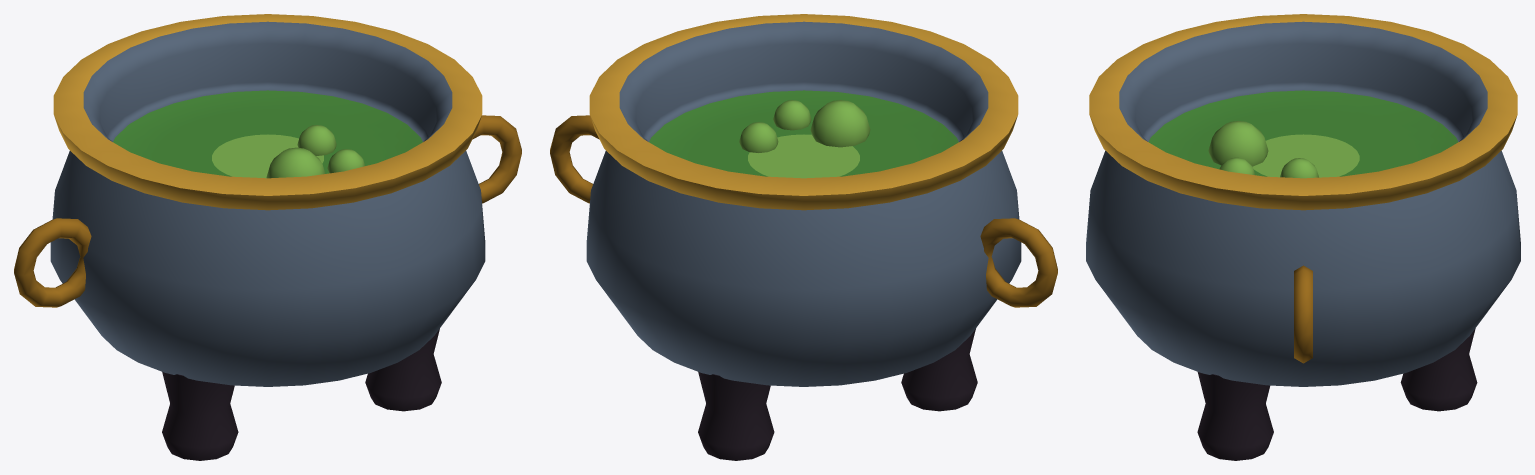
Rendered from Cauldron_06.glb.
The picture shows the model from 3 angles, left to right: view 1: azimuth 30°, elevation 25°; view 2: azimuth 150°, elevation 25°; view 3: azimuth 270°, elevation 25°; orthographic projection.
Visible parts, largest first — view 1: Cauldron_06; view 2: Cauldron_06; view 3: Cauldron_06.
Boxes of the visible parts, x1,y1,x2,y2 form: Cauldron_06: (14,14,521,460); Cauldron_06: (550,14,1057,460); Cauldron_06: (1086,14,1520,460).
Bounding box in the file's own units: 4.27 × 2.39 × 3.17.
